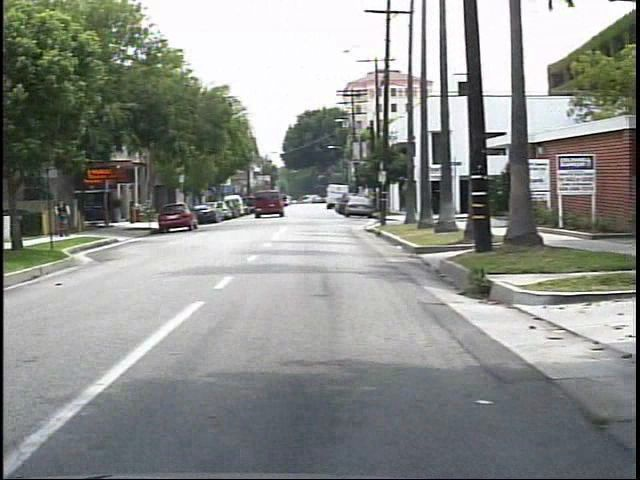person: (41, 191, 70, 239)
